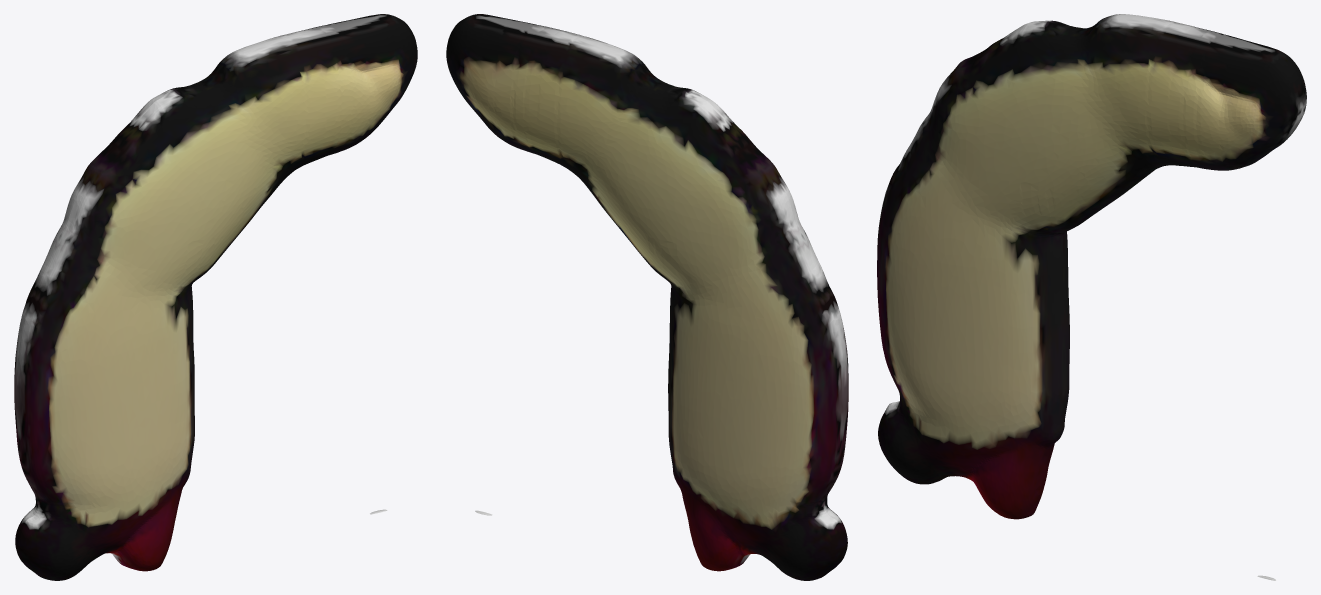
File: finger.glb
3 views of the same model, side by side, from view 1: azimuth 30°, elevation 25°; view 2: azimuth 150°, elevation 25°; view 3: azimuth 330°, elevation 25° (orthographic). The views are drawn at different scales.
Parts seen in each view (by area): view 1: geometry_0; view 2: geometry_0; view 3: geometry_0.
Part boxes in pixels (left/top/right/bottom): geometry_0: left=14, top=14, right=417, bottom=580; geometry_0: left=446, top=14, right=848, bottom=580; geometry_0: left=877, top=14, right=1306, bottom=580.
Size of the model in its own units: 0.4688 by 0.5617 by 0.0828.
